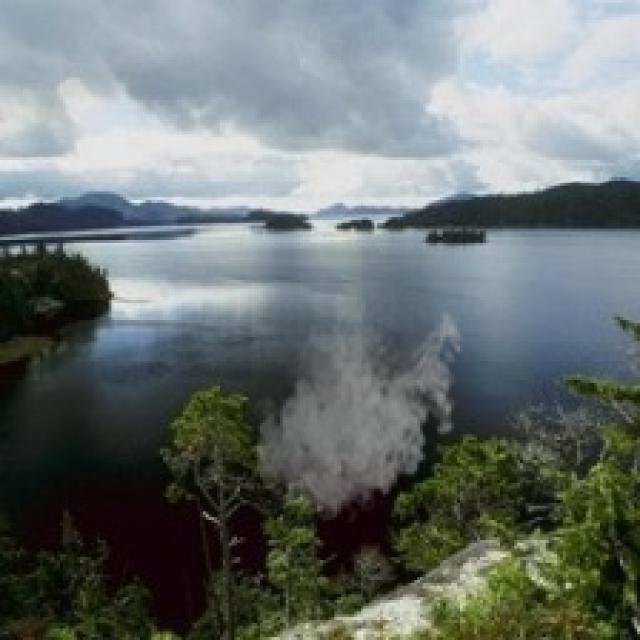Smoke: (248, 282, 468, 528)
